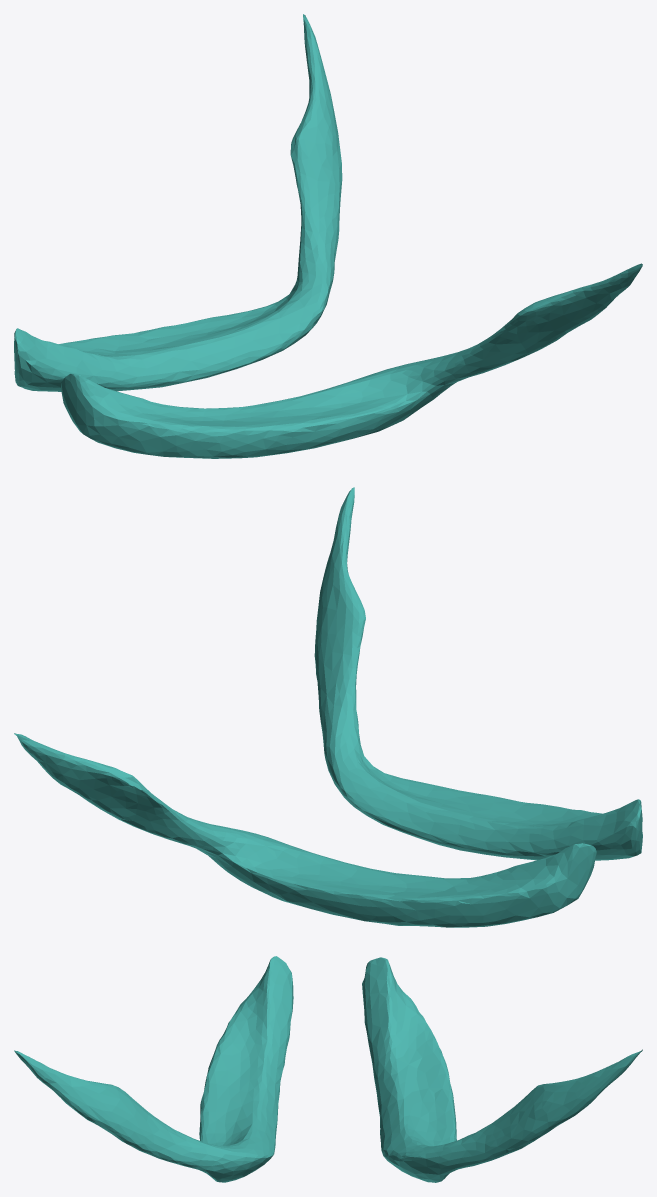
3 views of the same model, one above another, from view 1: azimuth 30°, elevation 25°; view 2: azimuth 150°, elevation 25°; view 3: azimuth 270°, elevation 25° (orthographic). The views are drawn at different scales.
Visible parts, largest first — view 1: 610.obj; view 2: 610.obj; view 3: 610.obj.
Boxes of the visible parts, x1,y1,x2,y2 form: 610.obj: [14, 14, 642, 458]; 610.obj: [14, 487, 642, 927]; 610.obj: [14, 956, 642, 1182].
Size of the model in its own units: 3862 by 1793 by 5197.
